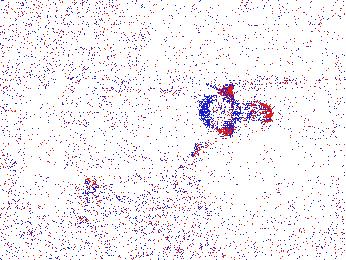flame jellyfish: (197, 90, 275, 136), (68, 177, 121, 225)
